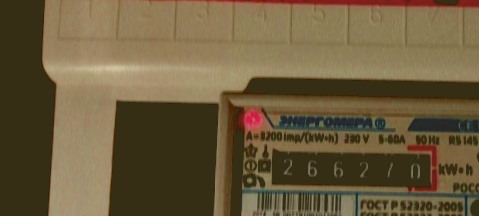0: (409, 159, 423, 179)
2: (282, 155, 295, 176), (359, 158, 372, 178)
6: (333, 157, 346, 177), (307, 156, 319, 177)
7: (385, 158, 395, 178)
screen: (261, 137, 445, 196)
